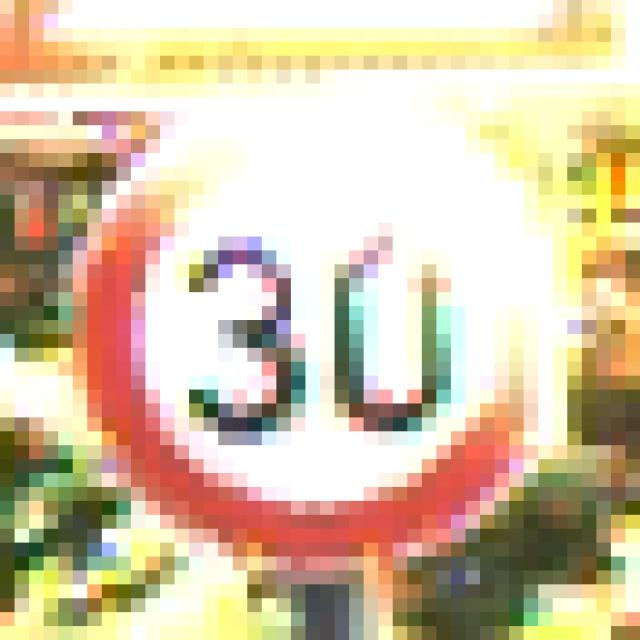Speed Limit -30-: (65, 77, 560, 550)
